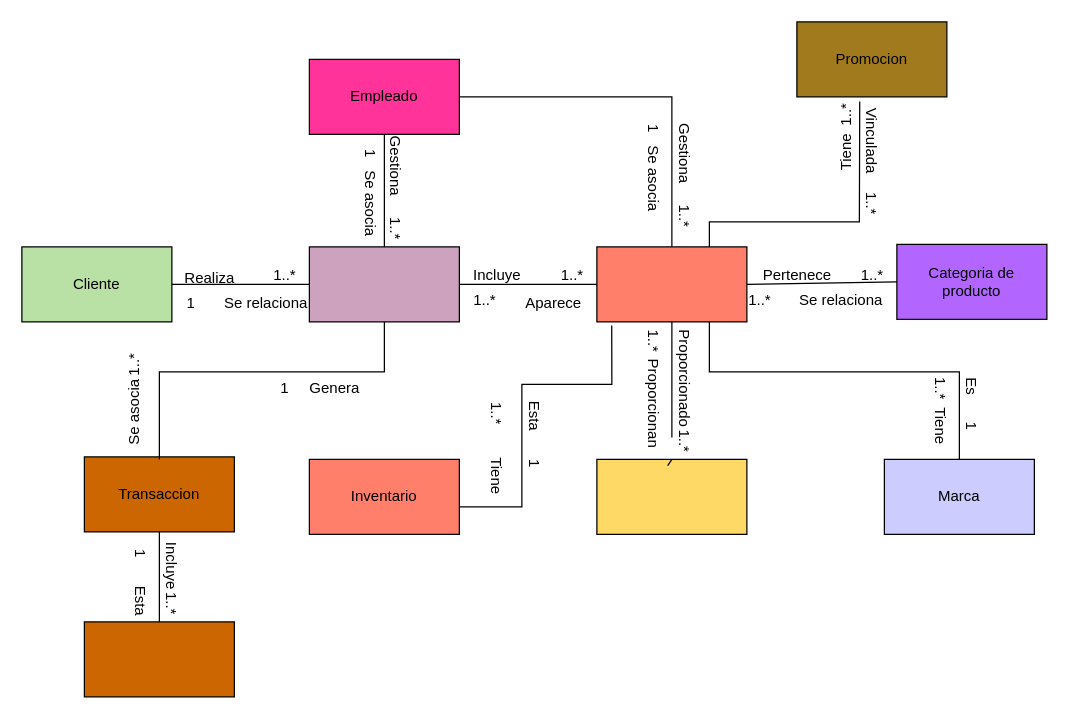
Image size: 1069x719. Some labels were removed from this diagram. Here are the shapes that lost their labels. From the top down, the box of each, then its label:
(308, 246, 459, 322): Pedido
(596, 246, 747, 322): Producto
(596, 458, 747, 534): Proveedor
(83, 621, 234, 697): Pago
